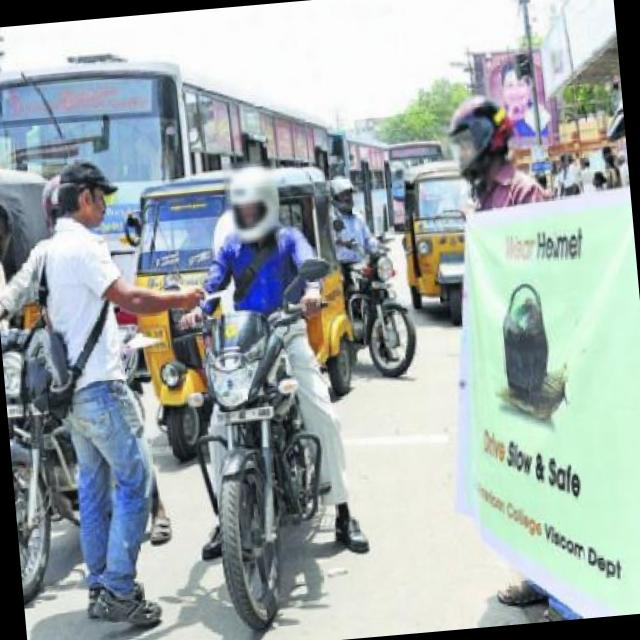With Helmet: (436, 85, 525, 190), (222, 158, 282, 246), (326, 165, 360, 218)
